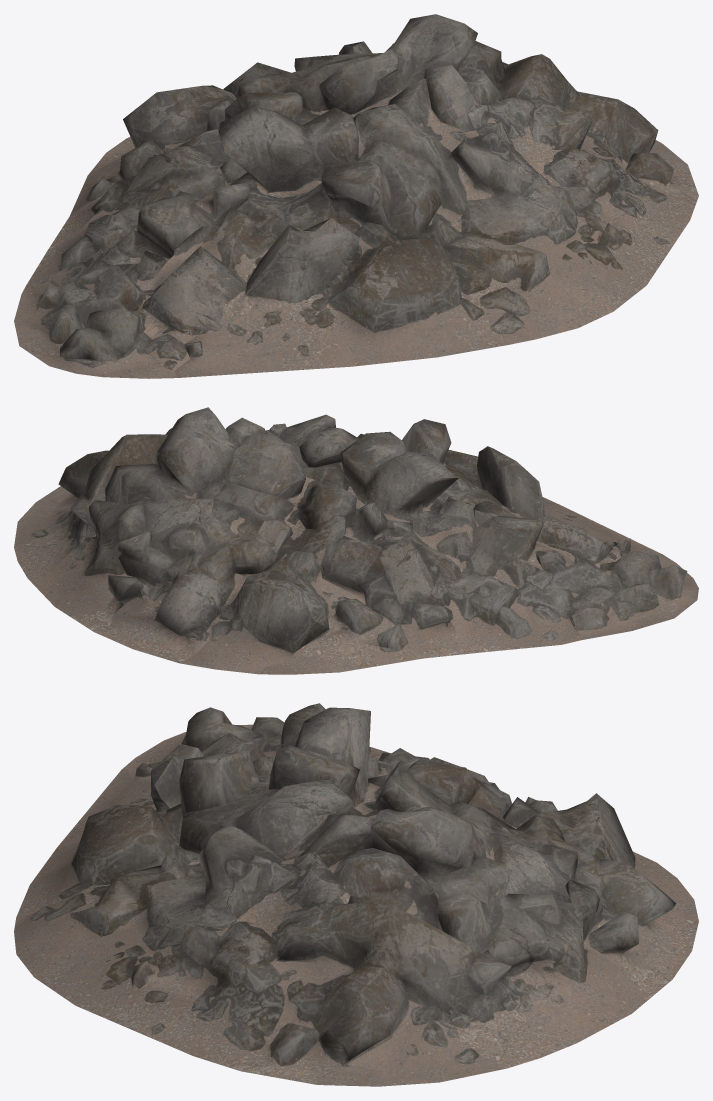
The model's file is SM_Debris_01a.fbx.
3 views of the same model, one above another, from view 1: azimuth 30°, elevation 25°; view 2: azimuth 150°, elevation 25°; view 3: azimuth 270°, elevation 25° (orthographic). The views are drawn at different scales.
Parts seen in each view (by area): view 1: SM_Debris_01a; view 2: SM_Debris_01a; view 3: SM_Debris_01a.
Part boxes in pixels (x1=…): SM_Debris_01a: x1=14, y1=14, x2=698, y2=378; SM_Debris_01a: x1=14, y1=407, x2=698, y2=674; SM_Debris_01a: x1=14, y1=703, x2=698, y2=1086.
Size of the model in its own units: 325 by 72.45 by 260.
